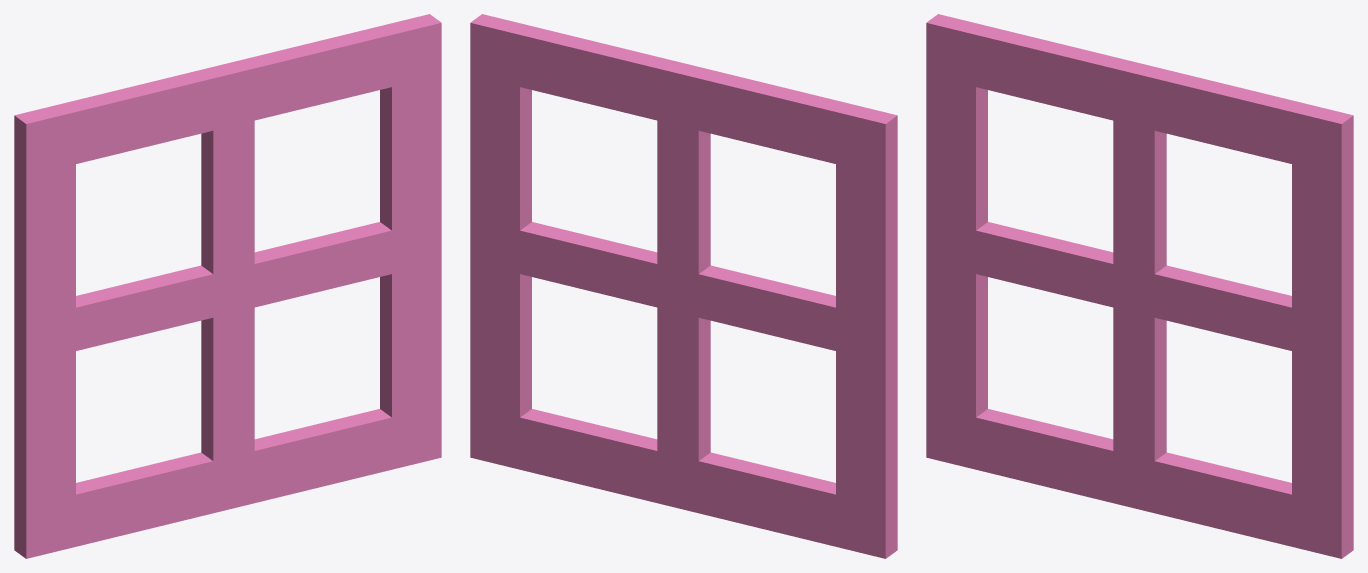
File: finestra.glb
3 views of the same model, side by side, from view 1: azimuth 30°, elevation 25°; view 2: azimuth 150°, elevation 25°; view 3: azimuth 330°, elevation 25° (orthographic).
Visible parts, largest first — view 1: finestra_left, finestra_right, finestra_top, finestra_bottom, finestra_hbar, finestra_vbar; view 2: finestra_left, finestra_right, finestra_top, finestra_bottom, finestra_hbar, finestra_vbar; view 3: finestra_right, finestra_left, finestra_top, finestra_bottom, finestra_hbar, finestra_vbar.
Boxes of the visible parts, box(x1,y1,x2,y2) form: finestra_left: box(14, 103, 75, 558); finestra_right: box(380, 14, 441, 469); finestra_top: box(64, 26, 391, 163); finestra_bottom: box(76, 409, 391, 546); finestra_hbar: box(76, 222, 391, 350); finestra_vbar: box(201, 120, 254, 460); finestra_left: box(836, 103, 897, 558); finestra_right: box(470, 14, 531, 469); finestra_top: box(520, 26, 847, 163); finestra_bottom: box(520, 409, 835, 546); finestra_hbar: box(520, 222, 835, 350); finestra_vbar: box(657, 120, 710, 460); finestra_right: box(1292, 103, 1353, 558); finestra_left: box(926, 14, 987, 469); finestra_top: box(976, 26, 1303, 163); finestra_bottom: box(976, 409, 1291, 546); finestra_hbar: box(976, 222, 1291, 350); finestra_vbar: box(1113, 120, 1166, 460).
Bounding box in the file's own units: 1 × 1 × 0.05.
